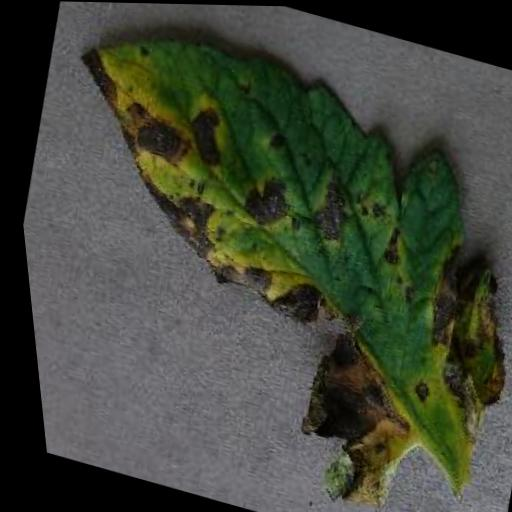Early Blight: (0, 4, 512, 512)
